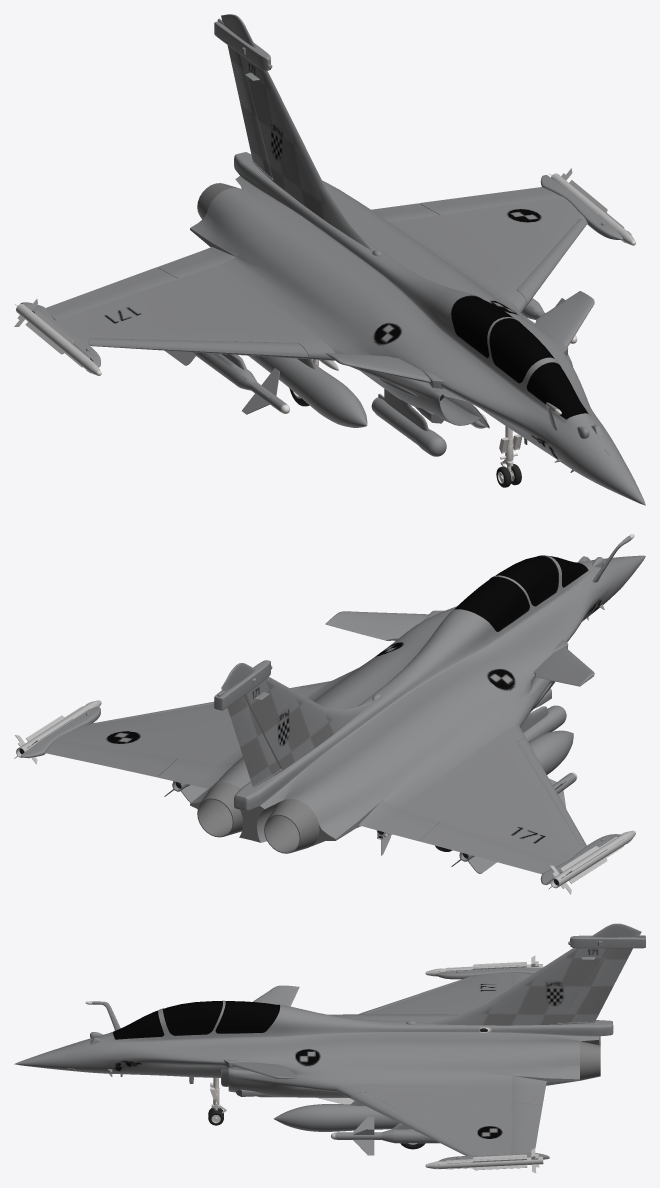
Rendered from Rafale.fbx.
3 renders of one model, top to bottom at view 1: azimuth 30°, elevation 25°; view 2: azimuth 150°, elevation 25°; view 3: azimuth 270°, elevation 25°, orthographic. The views are drawn at different scales.
Parts seen in each view (by area): view 1: Fuselage, Tail, GlassRear, FuelTankR, SlatR, GBU-24R, EleronR, Damocles, GlassFront, EleronL, KanardL, Rudder (+8 smaller); view 2: Fuselage, Tail, GlassRear, EleronR, EngineR, EleronL, Rudder, KanardL, EngineL, FlapR, MICAR, KanardR (+10 smaller); view 3: Fuselage, Tail, GlassRear, FuelTankL, Rudder, GBU-24L, EleronL, MICAL, SlatL, CanopyRear, FlapL, GlassFront (+6 smaller).
Part boxes in pixels (left/top/right/bottom): Fuselage: left=56, top=152, right=645, bottom=505; Tail: left=214, top=14, right=371, bottom=249; GlassRear: left=451, top=296, right=554, bottom=383; FuelTankR: left=248, top=355, right=367, bottom=427; SlatR: left=88, top=338, right=308, bottom=358; GBU-24R: left=165, top=350, right=289, bottom=414; EleronR: left=45, top=267, right=177, bottom=320; Damocles: left=371, top=389, right=446, bottom=456; GlassFront: left=527, top=362, right=587, bottom=419; EleronL: left=419, top=187, right=561, bottom=214; KanardL: left=534, top=291, right=594, bottom=346; Rudder: left=227, top=45, right=272, bottom=178; Fuselage: left=55, top=555, right=645, bottom=863; Tail: left=214, top=660, right=371, bottom=787; GlassRear: left=454, top=556, right=558, bottom=631; EleronR: left=419, top=822, right=561, bottom=874; EngineR: left=264, top=799, right=319, bottom=853; EleronL: left=45, top=740, right=177, bottom=777; Rudder: left=227, top=696, right=280, bottom=785; KanardL: left=325, top=611, right=428, bottom=640; EngineL: left=197, top=782, right=242, bottom=837; FlapR: left=359, top=800, right=439, bottom=841; MICAR: left=548, top=830, right=635, bottom=894; KanardR: left=534, top=647, right=594, bottom=686; Fuselage: left=14, top=972, right=613, bottom=1155; Tail: left=419, top=923, right=645, bottom=1025; GlassRear: left=163, top=1001, right=279, bottom=1035; FuelTankL: left=273, top=1104, right=399, bottom=1131; Rudder: left=558, top=948, right=632, bottom=1022; GBU-24L: left=331, top=1117, right=439, bottom=1155; EleronL: left=511, top=1102, right=542, bottom=1154; MICAL: left=425, top=1148, right=543, bottom=1172; SlatL: left=350, top=1092, right=473, bottom=1155; CanopyRear: left=160, top=1000, right=283, bottom=1040; FlapL: left=511, top=1076, right=546, bottom=1104; GlassFront: left=113, top=1010, right=164, bottom=1039.
Size of the model in its own units: 1156 by 536 by 1538.
